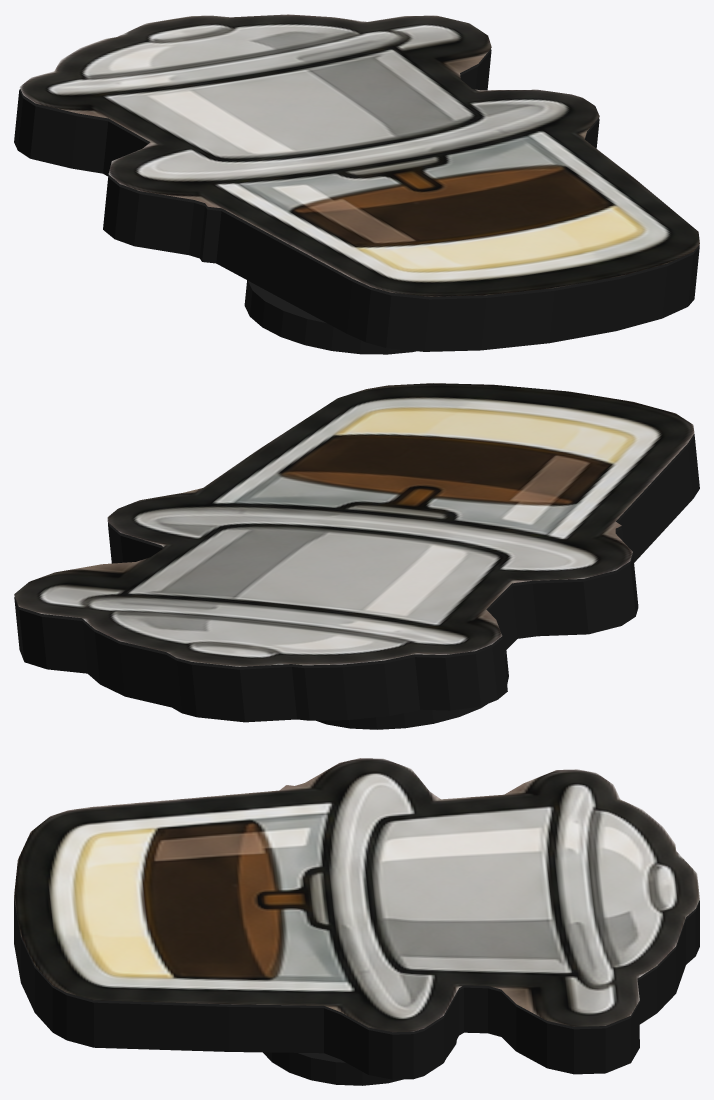
Rendered from vietnam-vietnamese-coffee.glb.
3 views of the same model, one above another, from view 1: azimuth 30°, elevation 25°; view 2: azimuth 150°, elevation 25°; view 3: azimuth 270°, elevation 25° (orthographic). The views are drawn at different scales.
Visible parts, largest first — view 1: VIETNAM_Vietnamese_Coffee_MODEL; view 2: VIETNAM_Vietnamese_Coffee_MODEL; view 3: VIETNAM_Vietnamese_Coffee_MODEL.
Part boxes in pixels (left/top/right/bottom): VIETNAM_Vietnamese_Coffee_MODEL: left=14, top=14, right=699, bottom=354; VIETNAM_Vietnamese_Coffee_MODEL: left=14, top=383, right=699, bottom=729; VIETNAM_Vietnamese_Coffee_MODEL: left=14, top=758, right=699, bottom=1085.
Bounding box in the file's own units: 0.2586 × 0.0964 × 0.3323.
3 materials, 1 textured.
